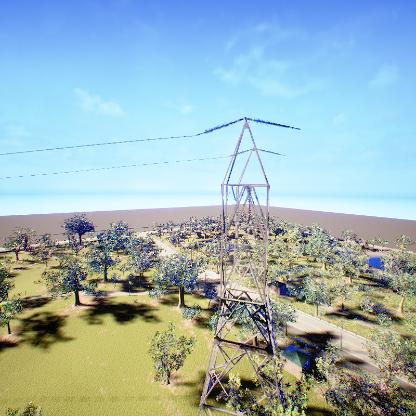tower: (193, 114, 300, 416)
